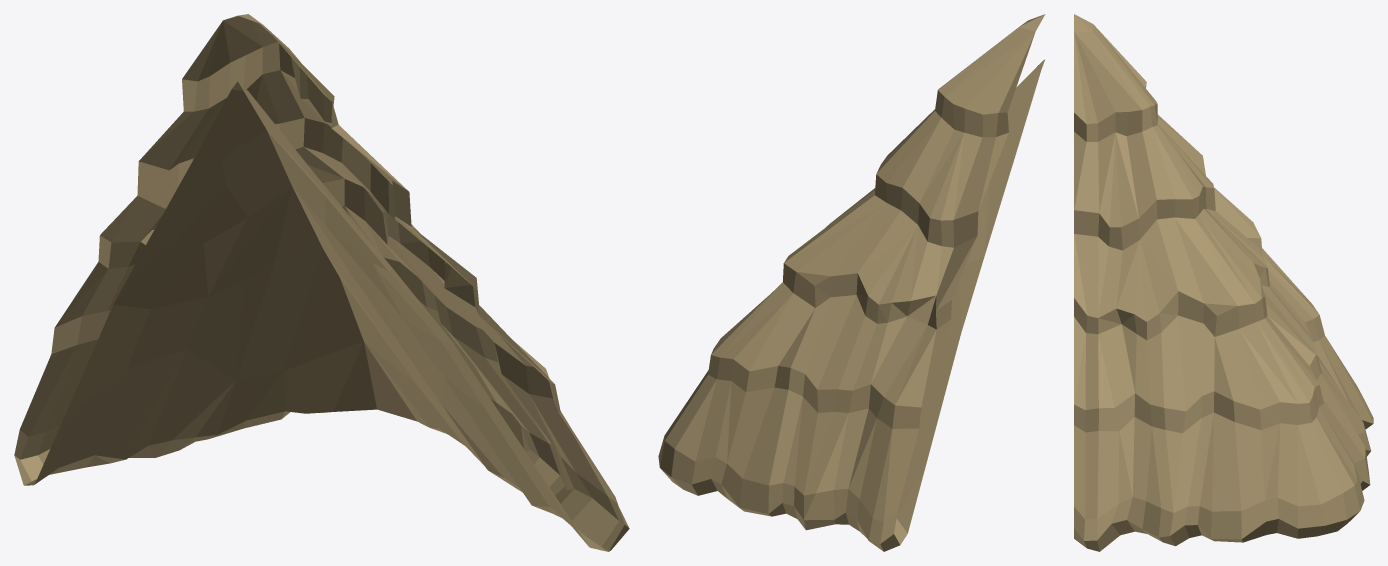
File: rpgpp_ag_roof_02_6x5x3_corner_02.fbx
The picture shows the model from 3 angles, left to right: view 1: azimuth 30°, elevation 25°; view 2: azimuth 150°, elevation 25°; view 3: azimuth 270°, elevation 25°; orthographic projection. The views are drawn at different scales.
Parts seen in each view (by area): view 1: rpgpp_ag_roof_02_6x5x3_corner_02; view 2: rpgpp_ag_roof_02_6x5x3_corner_02; view 3: rpgpp_ag_roof_02_6x5x3_corner_02.
Boxes of the visible parts, x1,y1,x2,y2 form: rpgpp_ag_roof_02_6x5x3_corner_02: [14, 14, 629, 551]; rpgpp_ag_roof_02_6x5x3_corner_02: [658, 14, 1045, 551]; rpgpp_ag_roof_02_6x5x3_corner_02: [1074, 14, 1373, 551].
Bounding box in the file's own units: 4.02 × 6.17 × 4.02.
